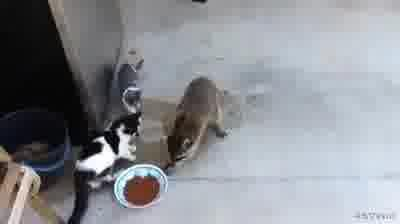raccoon: (162, 75, 231, 174)
